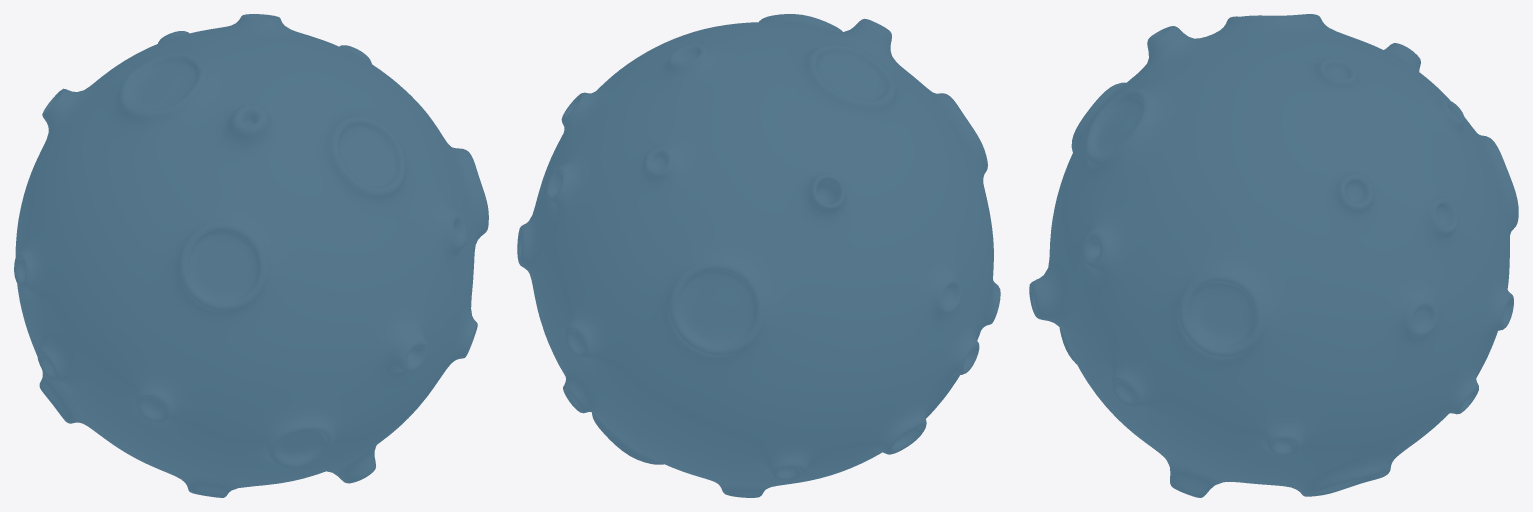
Rendered from asteroide.glb.
3 views of the same model, side by side, from view 1: azimuth 30°, elevation 25°; view 2: azimuth 150°, elevation 25°; view 3: azimuth 270°, elevation 25° (orthographic).
Parts seen in each view (by area): view 1: Moon; view 2: Moon; view 3: Moon.
Boxes of the visible parts, x1=… form: Moon: x1=14, y1=14, x2=488, y2=497; Moon: x1=517, y1=14, x2=1000, y2=497; Moon: x1=1029, y1=14, x2=1518, y2=497.
Bounding box in the file's own units: 1.79 × 1.73 × 1.8.
